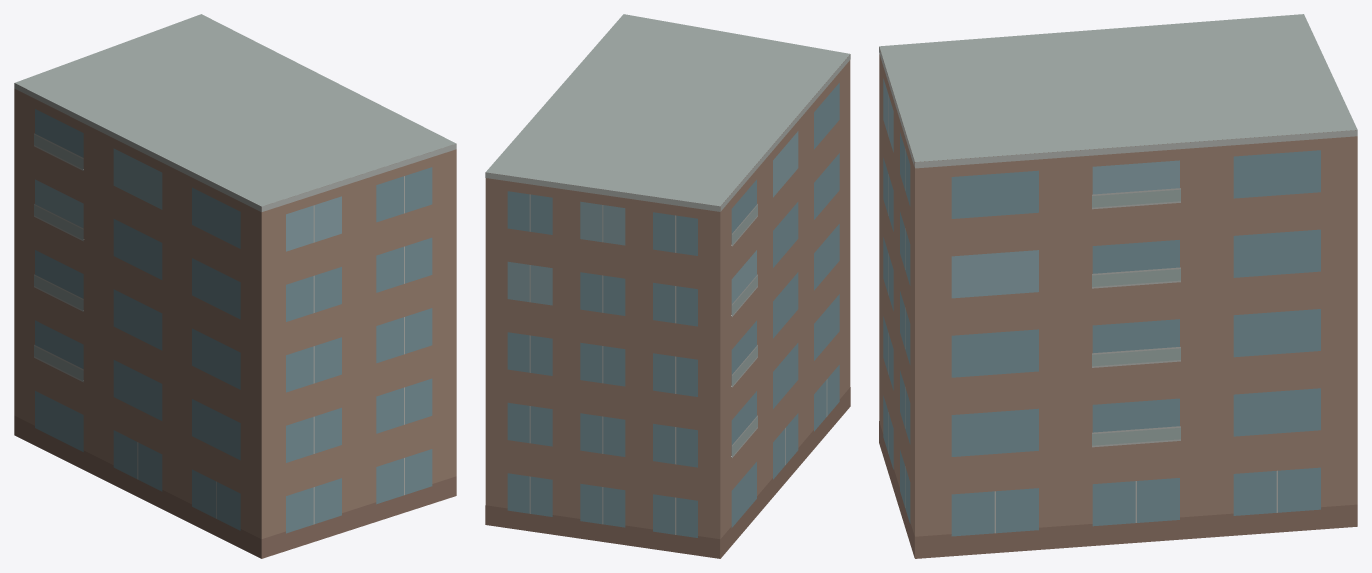
File: survey-upis-32567657.glb
3 views of the same model, side by side, from view 1: azimuth 30°, elevation 25°; view 2: azimuth 150°, elevation 25°; view 3: azimuth 270°, elevation 25° (orthographic). The views are drawn at different scales.
Visible parts, largest first — view 1: survey-upis-32567657.tmp; view 2: survey-upis-32567657.tmp; view 3: survey-upis-32567657.tmp.
Boxes of the visible parts, x1,y1,x2,y2 form: survey-upis-32567657.tmp: [14, 14, 456, 558]; survey-upis-32567657.tmp: [485, 14, 850, 558]; survey-upis-32567657.tmp: [879, 14, 1357, 558].
Size of the model in its own units: 12.22 by 15.25 by 16.68.
